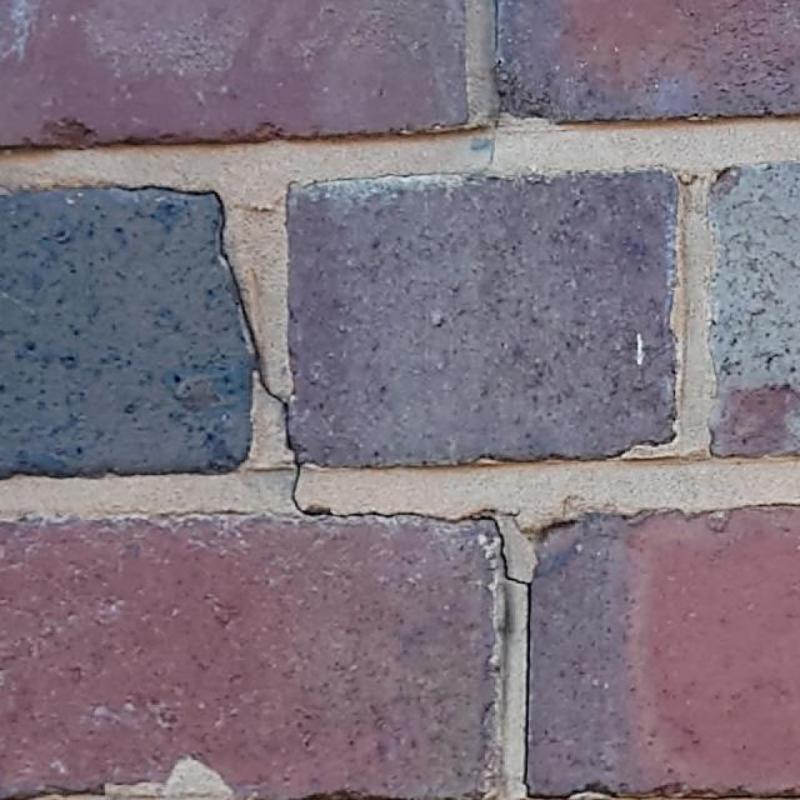pothole: (239, 298, 570, 799), (284, 112, 501, 230), (114, 182, 242, 299), (500, 511, 578, 584), (494, 0, 500, 60), (755, 503, 799, 508)
